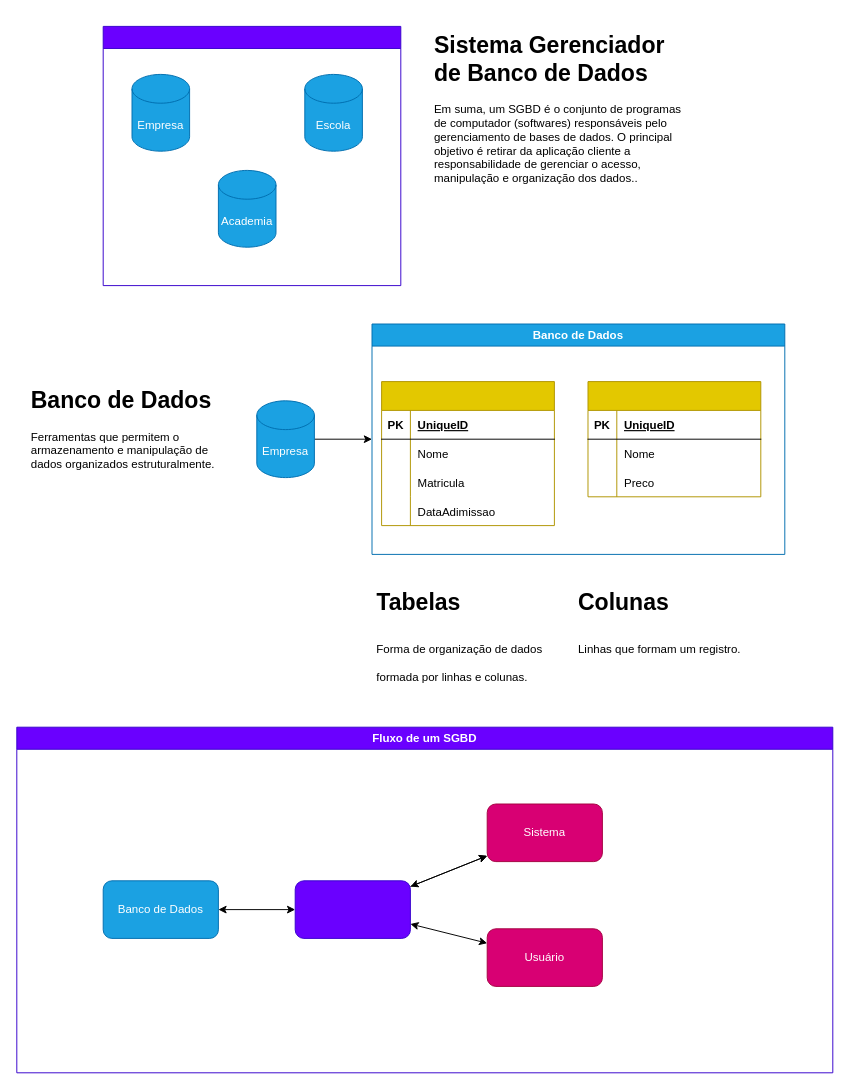
The diagram is 850 pixels wide and 1090 high, and some of its shapes have lost their labels. Each missing label, with the box of its shape:
Funcionario: (381, 381, 554, 526)
Produto: (587, 381, 761, 497)
SGBD: (294, 880, 410, 938)
Sistema Gerenciador de Banco de Dados: (102, 25, 401, 286)
